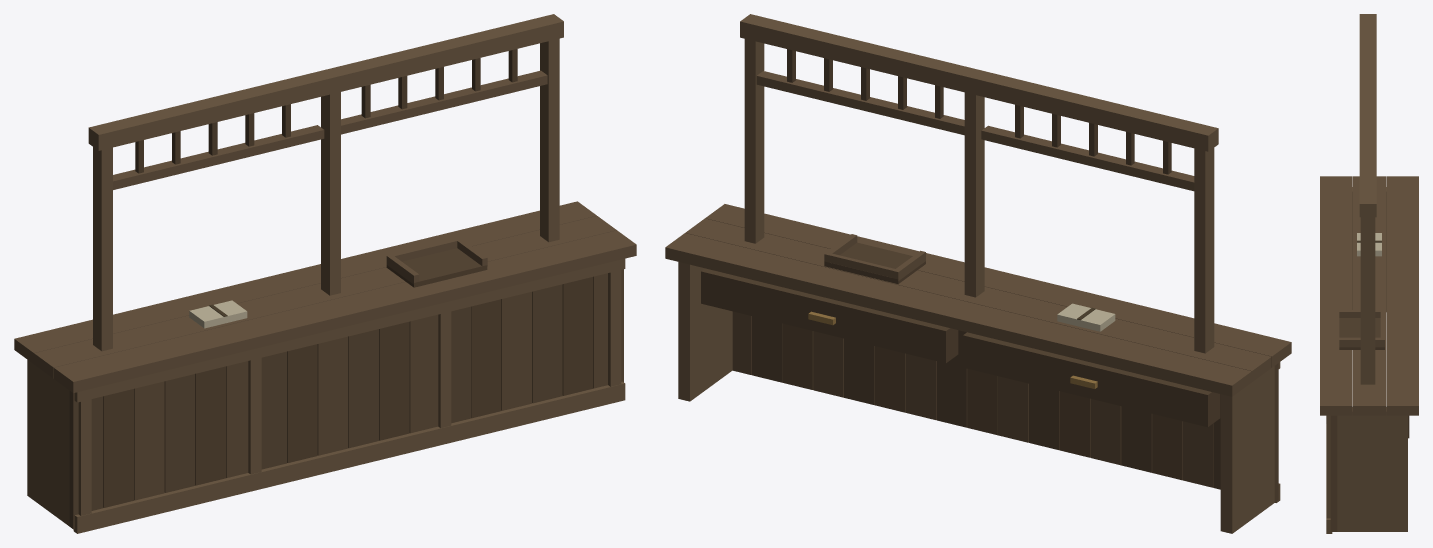
Rendered from PaymentCounter.glb.
3 views of the same model, side by side, from view 1: azimuth 30°, elevation 25°; view 2: azimuth 150°, elevation 25°; view 3: azimuth 270°, elevation 25° (orthographic). The views are drawn at different scales.
Parts seen in each view (by area): view 1: PaymentCounter; view 2: PaymentCounter; view 3: PaymentCounter.
Part boxes in pixels (left/top/right/bottom): PaymentCounter: left=14, top=14, right=636, bottom=533; PaymentCounter: left=665, top=14, right=1291, bottom=533; PaymentCounter: left=1320, top=14, right=1418, bottom=533.
Size of the model in its own units: 3.68 by 2.34 by 0.669.
